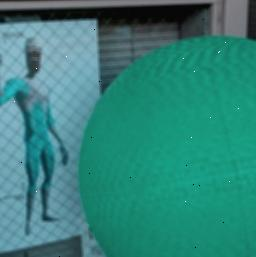algae: (83, 37, 256, 257)
